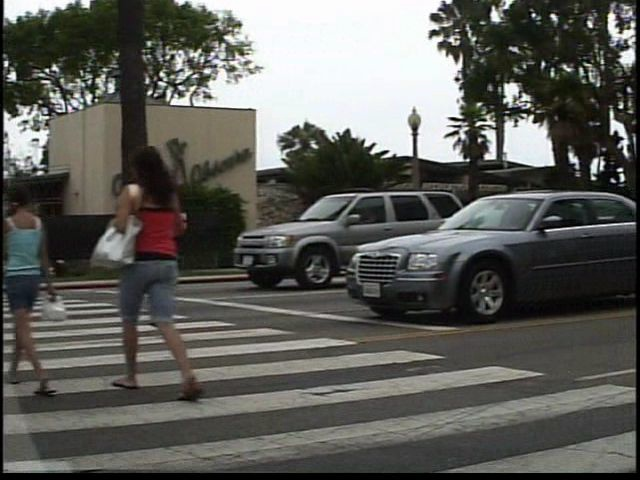person: (113, 140, 216, 408)
